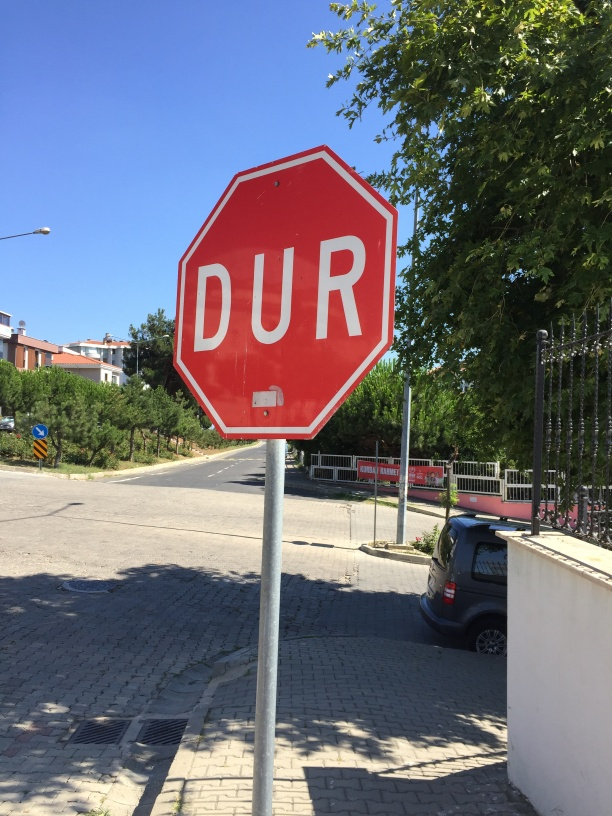arac_dur_isareti: (159, 147, 429, 667)
